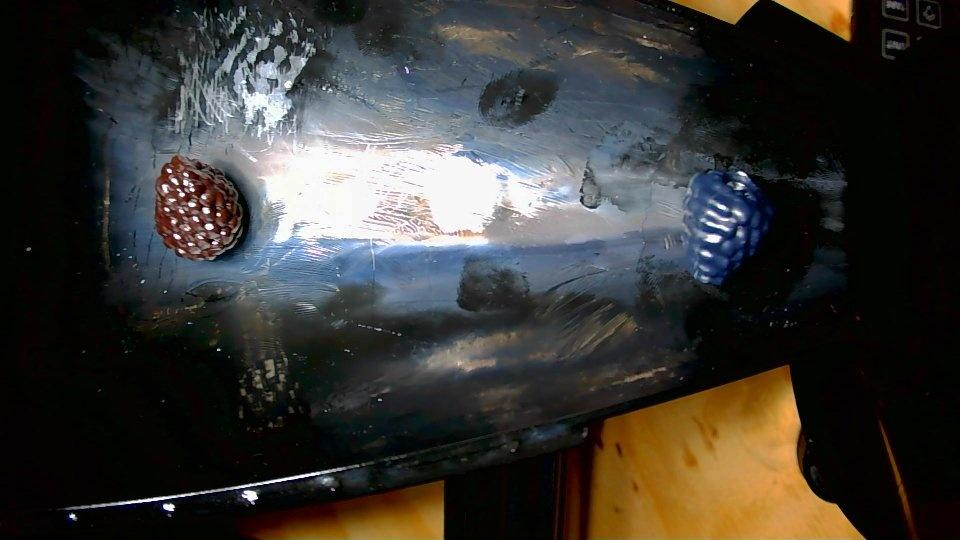berry: (683, 170, 772, 285), (155, 155, 243, 260)
